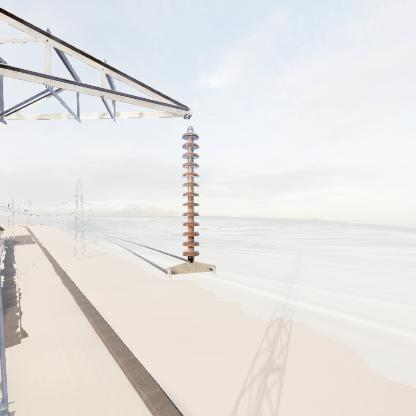insulator: (178, 128, 203, 264)
